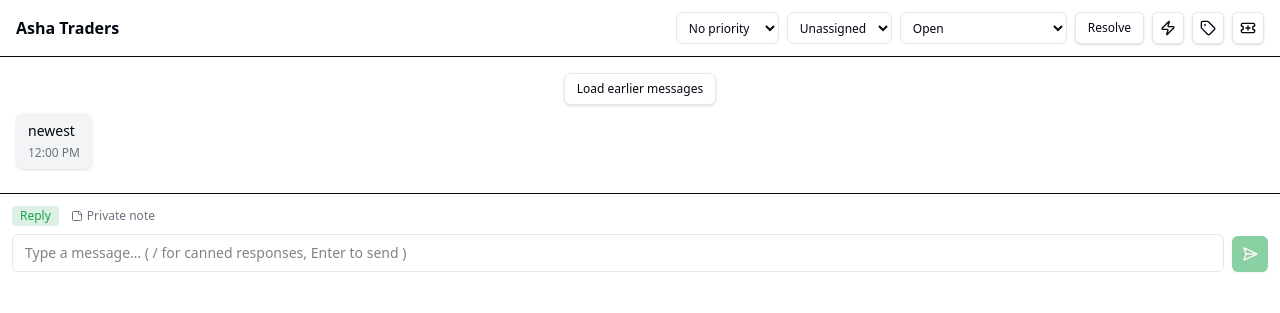
Test: ConversationPane › loads earlier messages via the cursor
Click the button "Load earlier messages": (640, 89) [564,73,716,105]
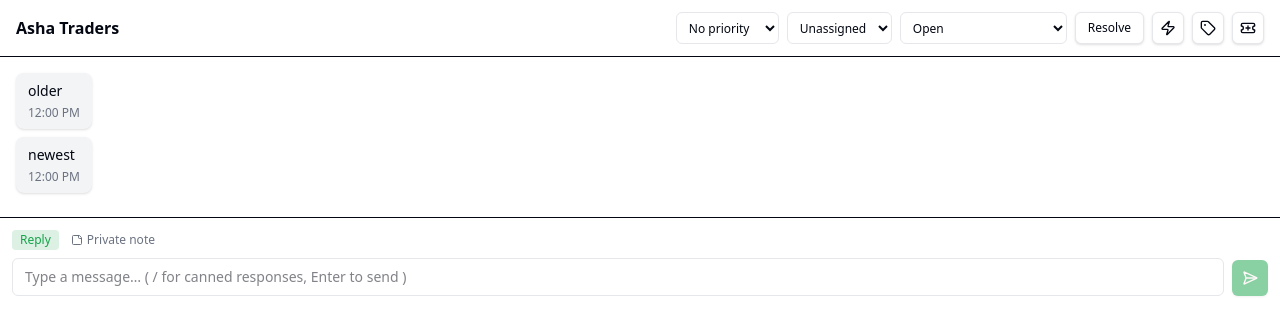
Expected: the text "newest" is shown, [28,145,80,165]
Expected: the text "older" is shown, [28,81,62,100]
